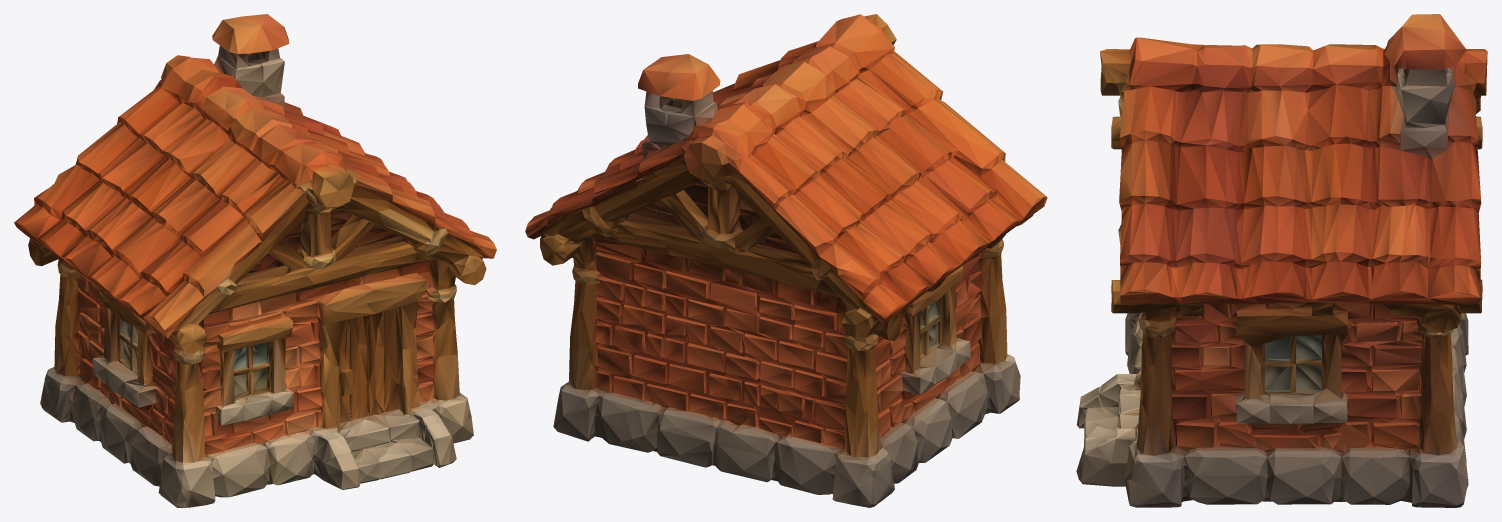
The model's file is building-brickHouse.glb.
3 views of the same model, side by side, from view 1: azimuth 30°, elevation 25°; view 2: azimuth 150°, elevation 25°; view 3: azimuth 270°, elevation 25° (orthographic). The views are drawn at different scales.
Parts seen in each view (by area): view 1: 0_brickHouse; view 2: 0_brickHouse; view 3: 0_brickHouse.
Part boxes in pixels (x1,y1,x2,y2): 0_brickHouse: (14,14,496,507); 0_brickHouse: (525,14,1047,507); 0_brickHouse: (1076,14,1487,507).
Size of the model in its own units: 5.58 by 5.63 by 4.93.
